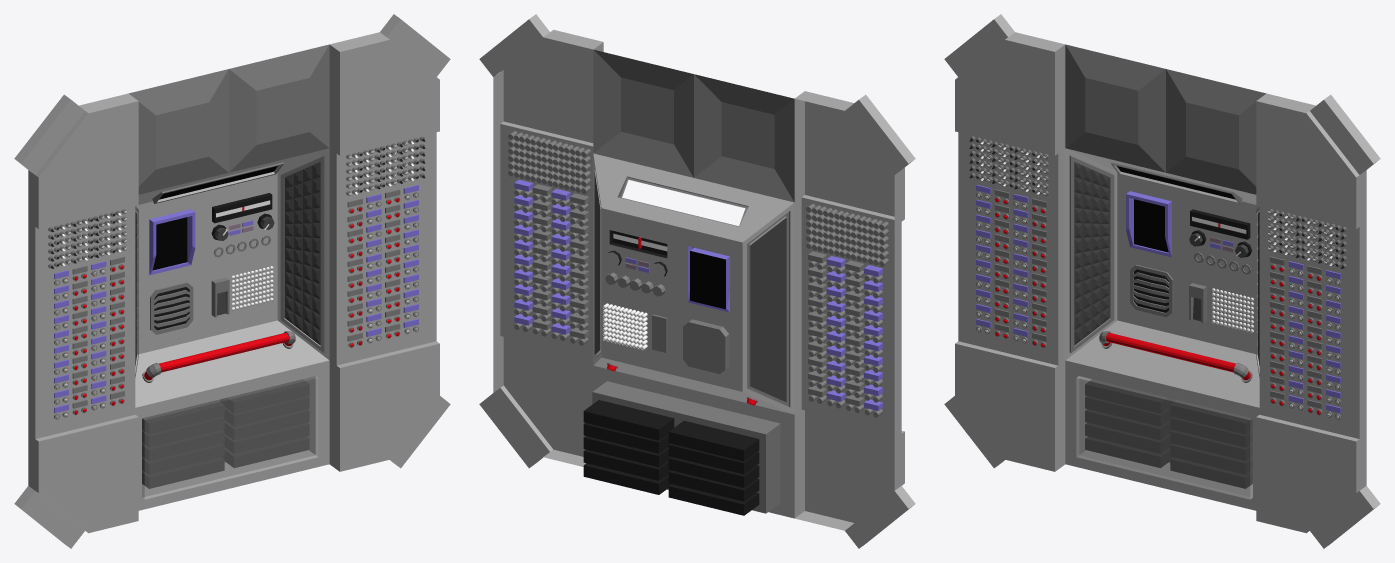
The model's file is Radio_Unfinished.fbx.
The picture shows the model from 3 angles, left to right: view 1: azimuth 30°, elevation 25°; view 2: azimuth 150°, elevation 25°; view 3: azimuth 330°, elevation 25°; orthographic projection.
Visible parts, largest first — view 1: Radio_Unfinished, Radio_Unfinished.001, Radio_Unfinished.002, Radio_Screen2, Radio_Mini_Lights, Radio_Screen1; view 2: Radio_Unfinished, Radio_Unfinished.001, Radio_Unfinished.002, Radio_Screen2, Radio_Mini_Lights; view 3: Radio_Unfinished, Radio_Unfinished.001, Radio_Unfinished.002, Radio_Screen2, Radio_Mini_Lights, Radio_Screen1.
Part boxes in pixels (x1,y1,x2,y2): Radio_Unfinished: (14,14,450,548); Radio_Unfinished.001: (54,185,418,419); Radio_Unfinished.002: (48,136,425,268); Radio_Screen2: (152,217,187,270); Radio_Mini_Lights: (231,266,273,310); Radio_Screen1: (159,166,277,199); Radio_Unfinished: (479,14,915,548); Radio_Unfinished.001: (514,179,882,417); Radio_Unfinished.002: (508,131,888,266); Radio_Screen2: (690,251,725,309); Radio_Mini_Lights: (602,303,647,350); Radio_Unfinished: (944,14,1380,548); Radio_Unfinished.001: (976,185,1340,419); Radio_Unfinished.002: (969,136,1346,268); Radio_Screen2: (1134,199,1168,252); Radio_Mini_Lights: (1212,288,1253,332); Radio_Screen1: (1117,166,1235,199).
Size of the model in its own units: 428 by 428 by 70.03.
